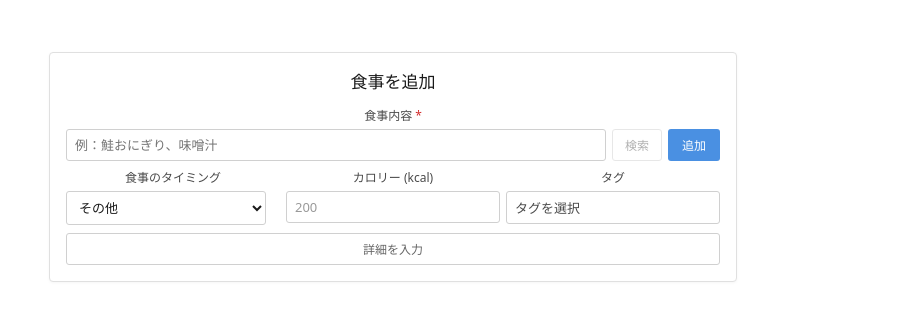
Test: MealForm › 検索結果から食品を選択できる
The width and height of the screenshot is (924, 335).
Type "おにぎり" into the field labelled "食事内容" at x=336, y=145, box [66,129,606,161]
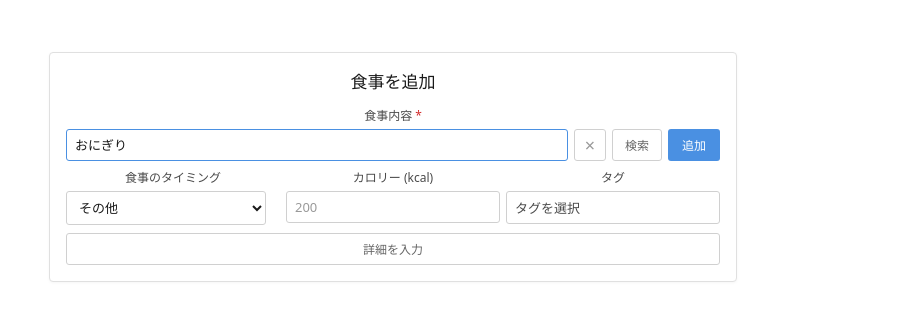
Click the button "検索" at x=637, y=145, box [612,129,662,161]
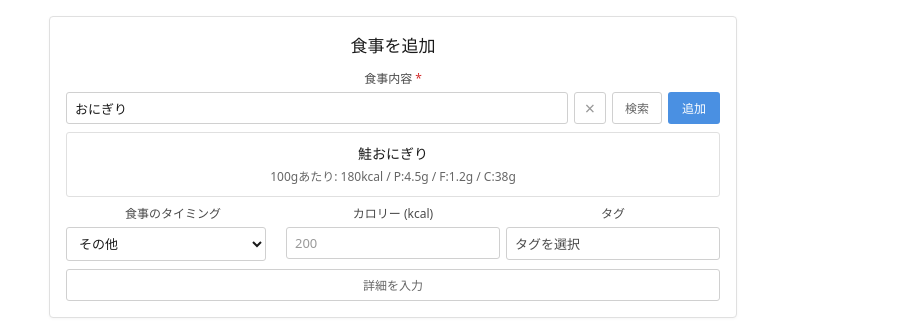
Expected: the text "鮭おにぎり" is shown
Note: 検索結果をクリック
Click the text "鮭おにぎり" at x=393, y=154, box [358,144,428,163]
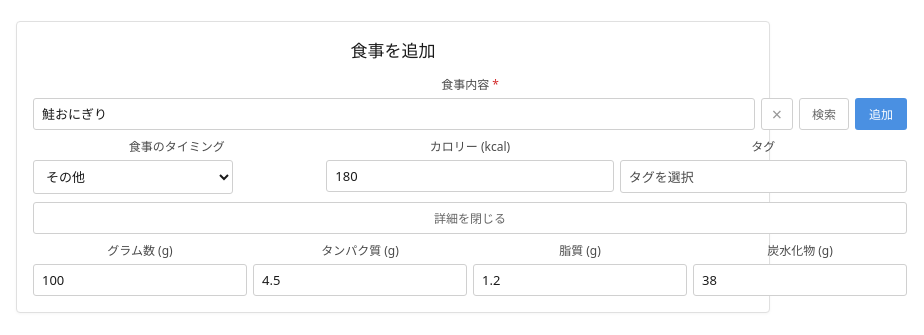
Expected: the field labelled "食事内容" holds "鮭おにぎり", [33,98,755,130]
Expected: the number field labelled "グラム数 (g)" is shown, [33,264,247,296]
